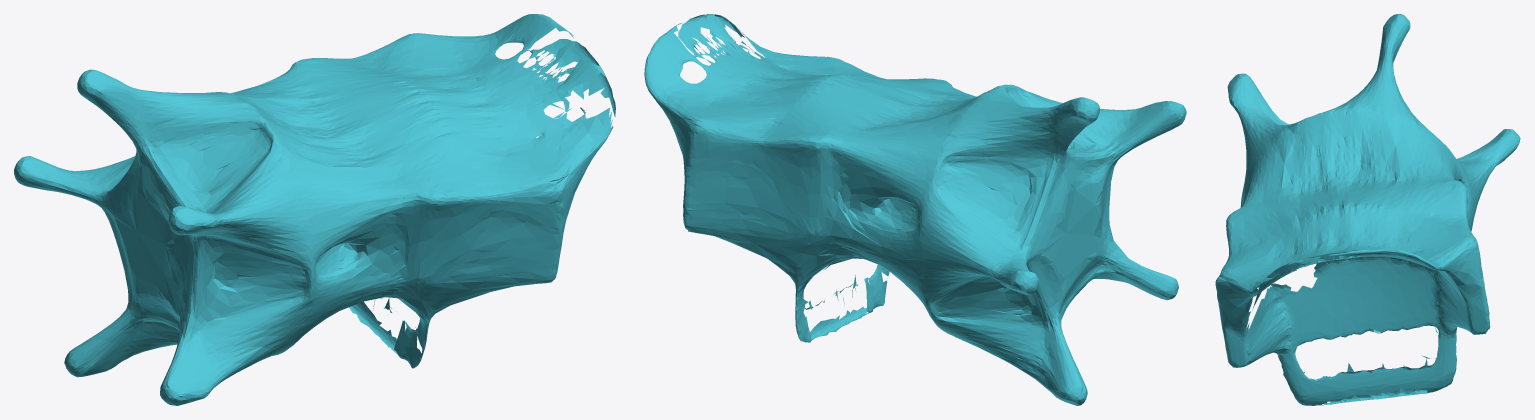
The picture shows the model from 3 angles, left to right: view 1: azimuth 30°, elevation 25°; view 2: azimuth 150°, elevation 25°; view 3: azimuth 270°, elevation 25°; orthographic projection. The views are drawn at different scales.
Visible parts, largest first — view 1: Renderer Node; view 2: Renderer Node; view 3: Renderer Node.
Part boxes in pixels (x1,y1,x2,y2): Renderer Node: (14, 14, 615, 405); Renderer Node: (644, 14, 1186, 405); Renderer Node: (1215, 14, 1520, 405).
Bounding box in the file's own units: 0.726 × 0.4791 × 0.4761.
1 material, 1 textured.
